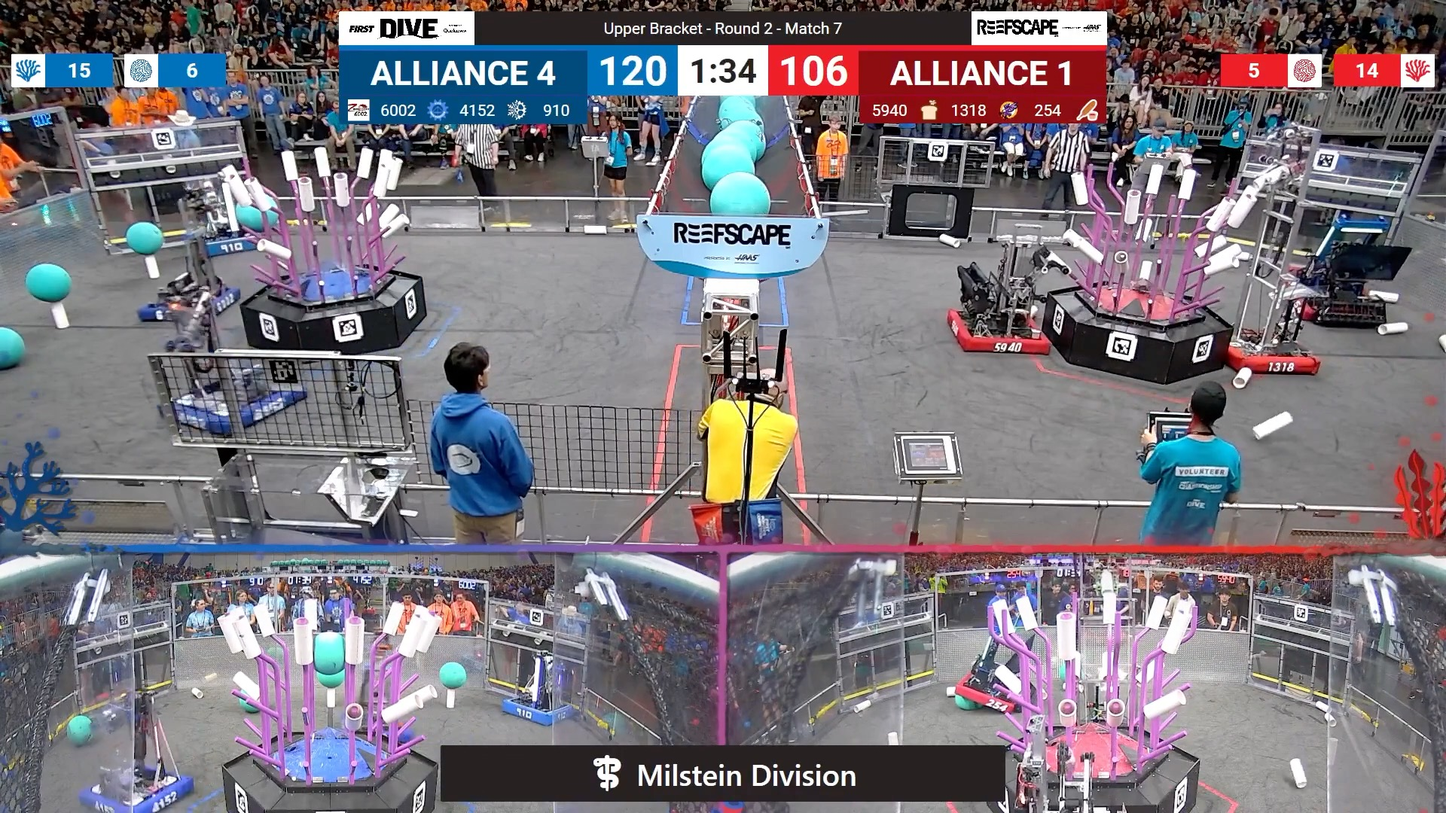bumpers: (166, 379, 304, 438), (942, 306, 1056, 363), (1218, 328, 1330, 382), (76, 767, 203, 813), (137, 279, 242, 324), (950, 668, 1036, 716), (187, 224, 273, 259), (497, 695, 581, 730)
